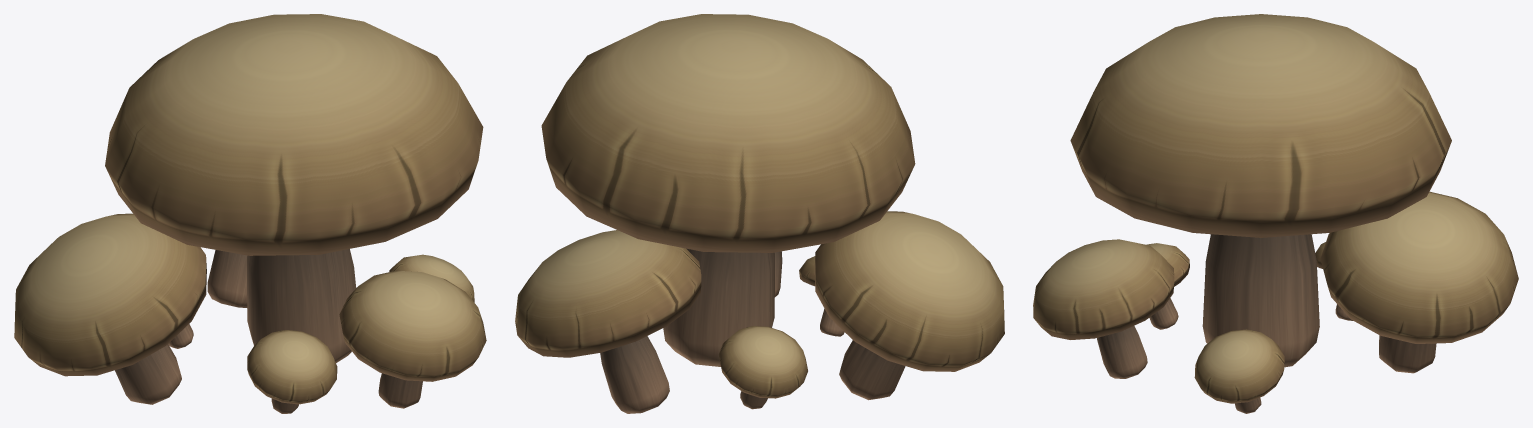
Rendered from VEG0110009.fbx.
The picture shows the model from 3 angles, left to right: view 1: azimuth 30°, elevation 25°; view 2: azimuth 150°, elevation 25°; view 3: azimuth 270°, elevation 25°; orthographic projection.
Visible parts, largest first — view 1: smVEG0110009; view 2: smVEG0110009; view 3: smVEG0110009.
Boxes of the visible parts, x1,y1,x2,y2 form: smVEG0110009: (14,14,486,413); smVEG0110009: (515,14,1004,413); smVEG0110009: (1033,14,1518,413).
Bounding box in the file's own units: 43.57 × 31.05 × 42.48.
Materials: 1 (1 with a texture image).
